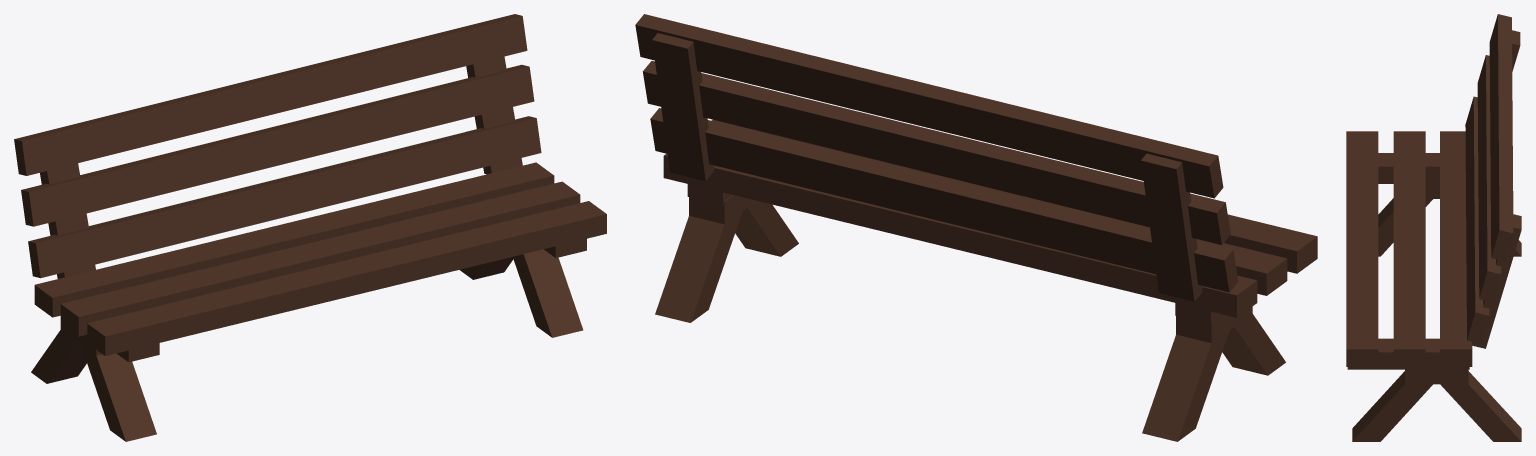
File: bench2.fbx
3 views of the same model, side by side, from view 1: azimuth 30°, elevation 25°; view 2: azimuth 150°, elevation 25°; view 3: azimuth 270°, elevation 25° (orthographic). The views are drawn at different scales.
Visible parts, largest first — view 1: Bench2; view 2: Bench2; view 3: Bench2.
Boxes of the visible parts, x1,y1,x2,y2 form: Bench2: [14, 14, 606, 441]; Bench2: [635, 14, 1317, 441]; Bench2: [1346, 14, 1521, 441].
Bounding box in the file's own units: 3.65 × 1.72 × 1.24.
